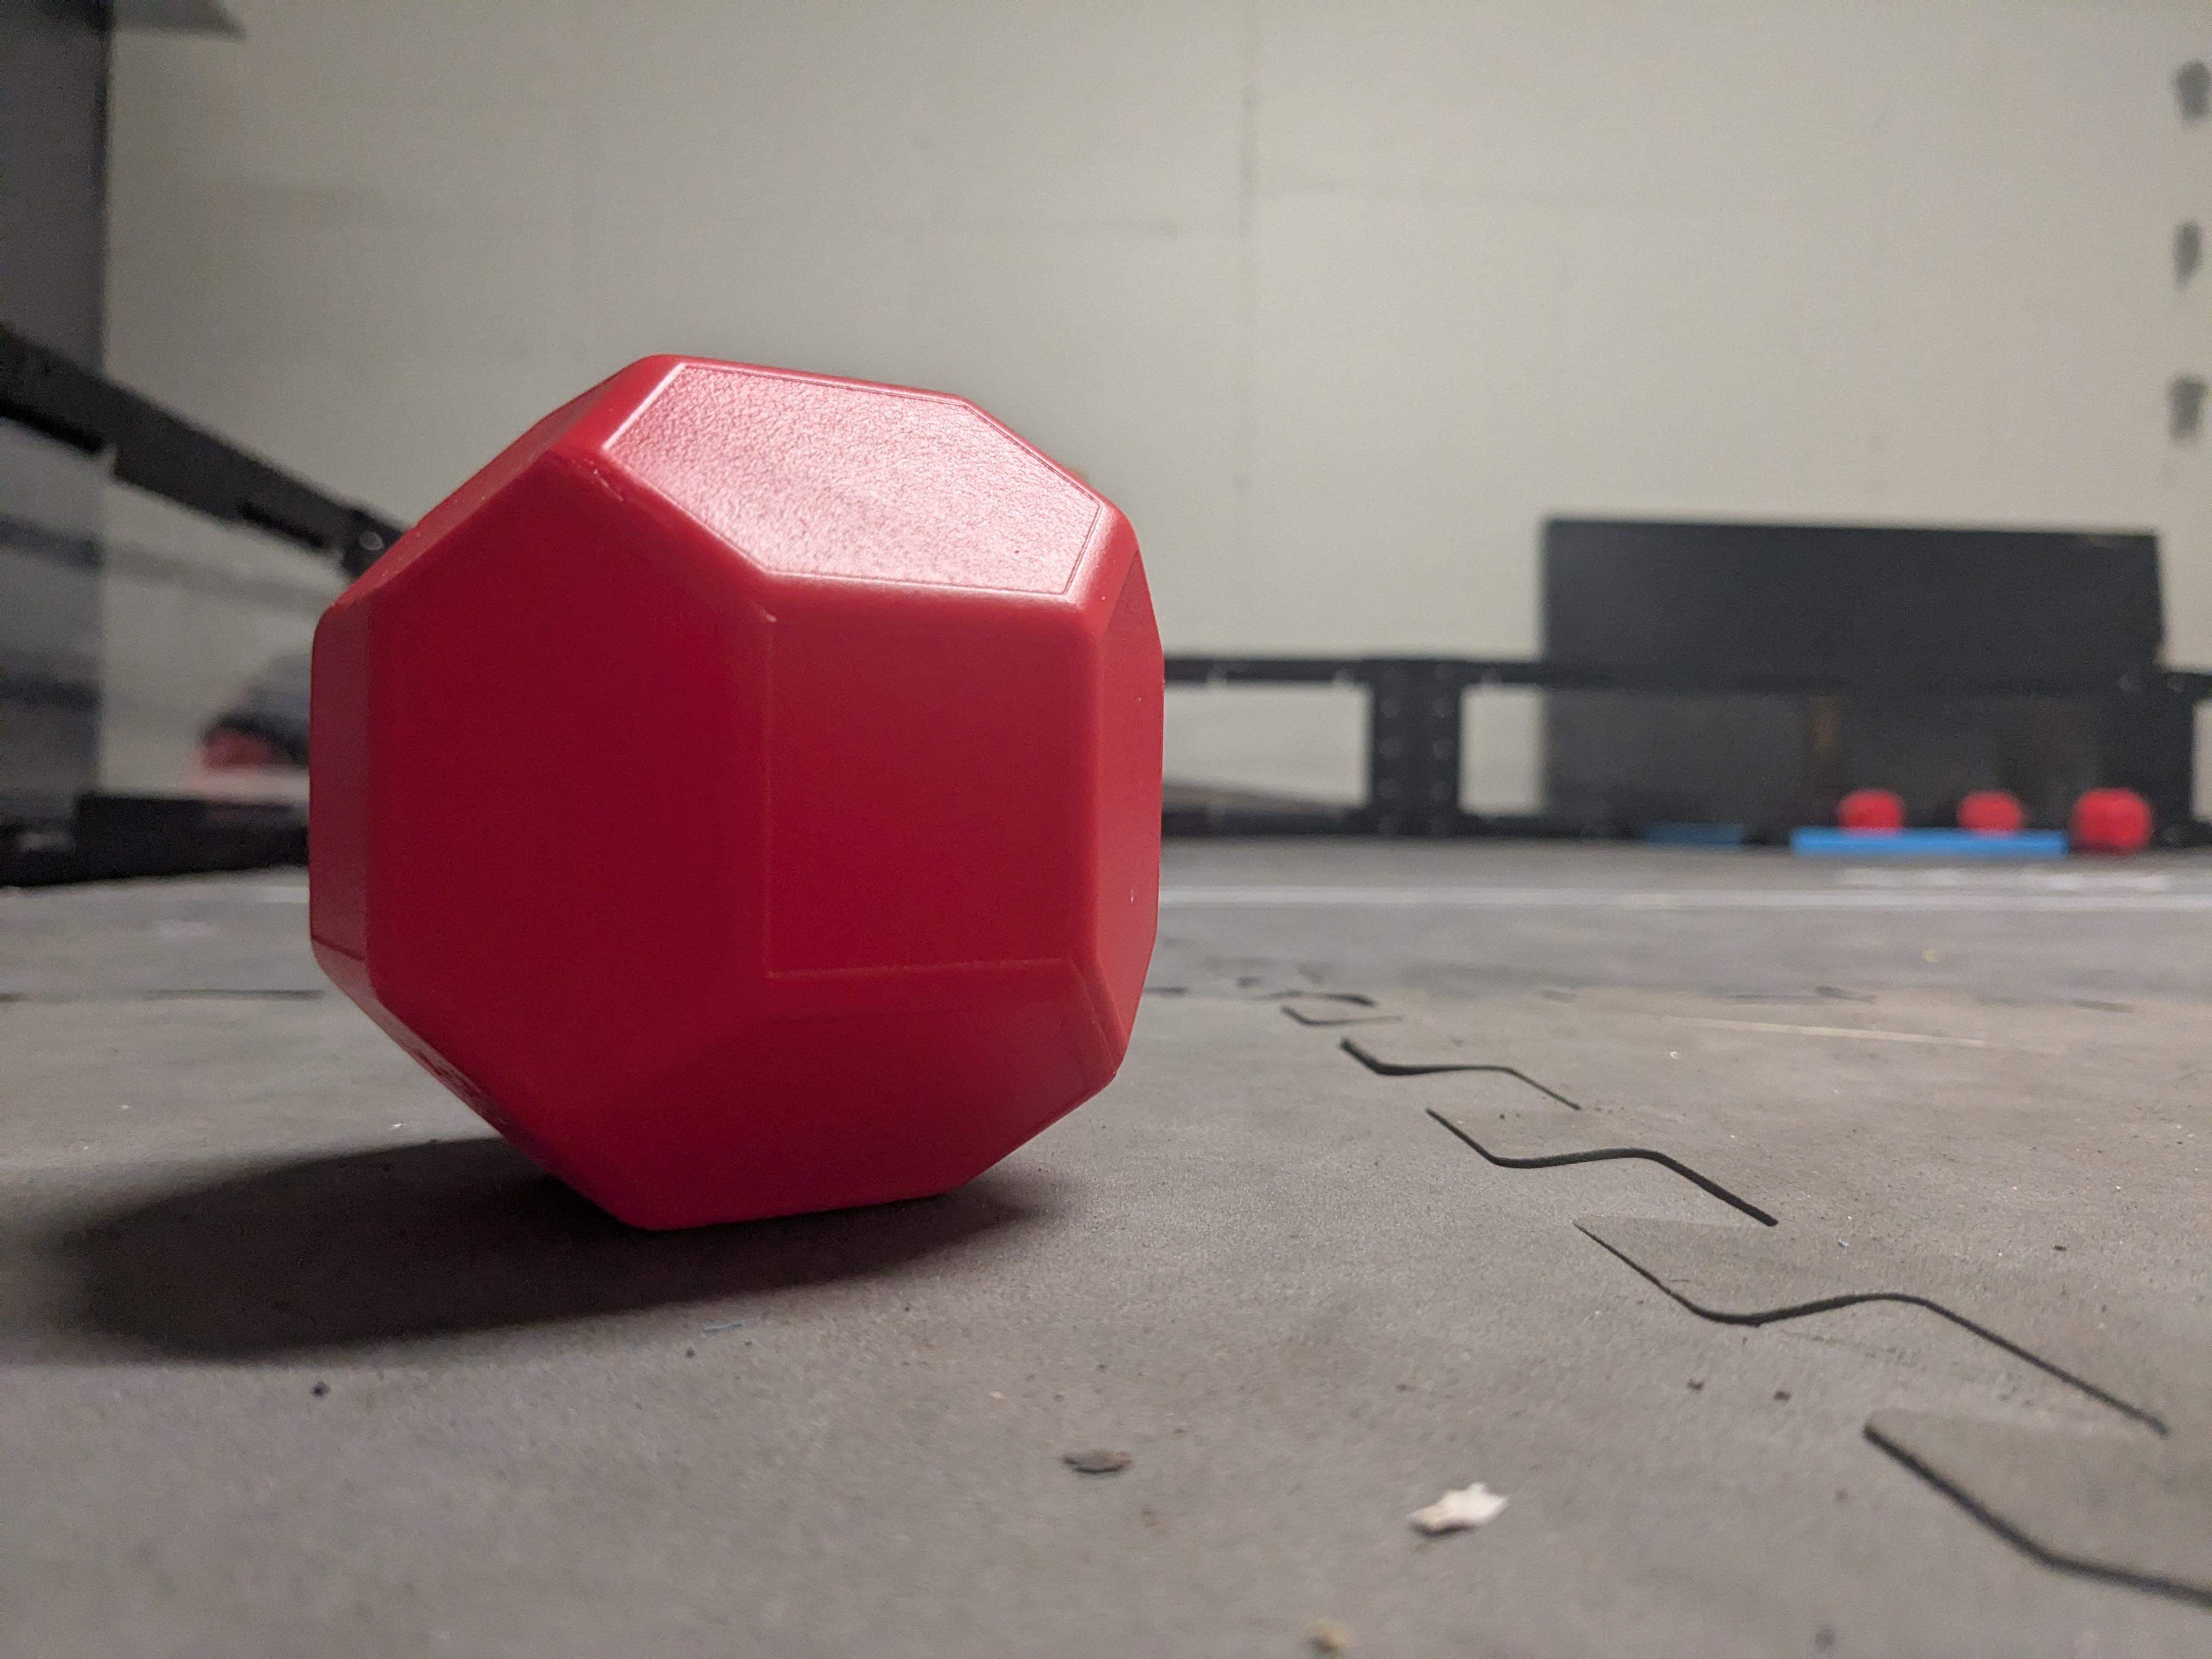Vex-Pieces-RED: (312, 357, 1162, 1227)
